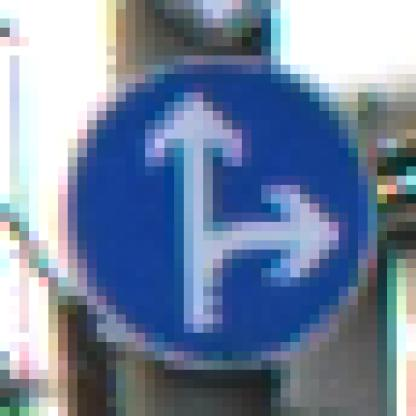Straight or Right: (59, 47, 359, 362)
